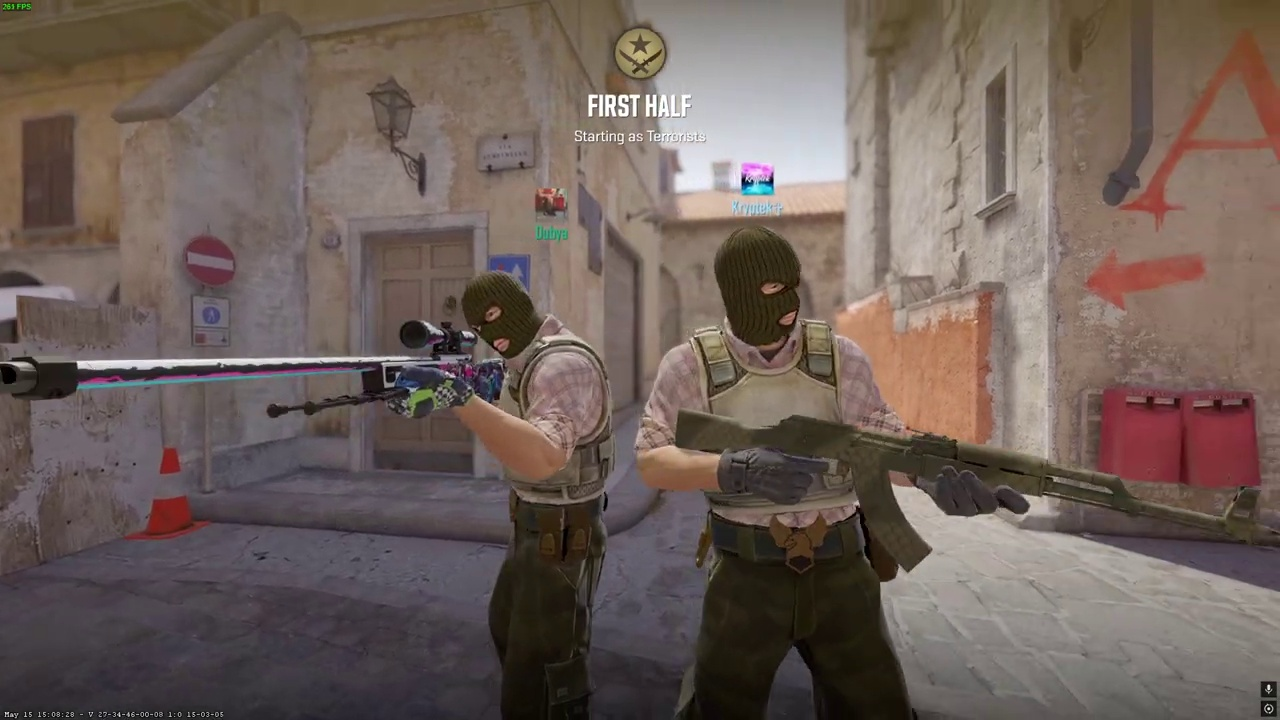Terrorist: (636, 225, 933, 720), (434, 267, 634, 720)
